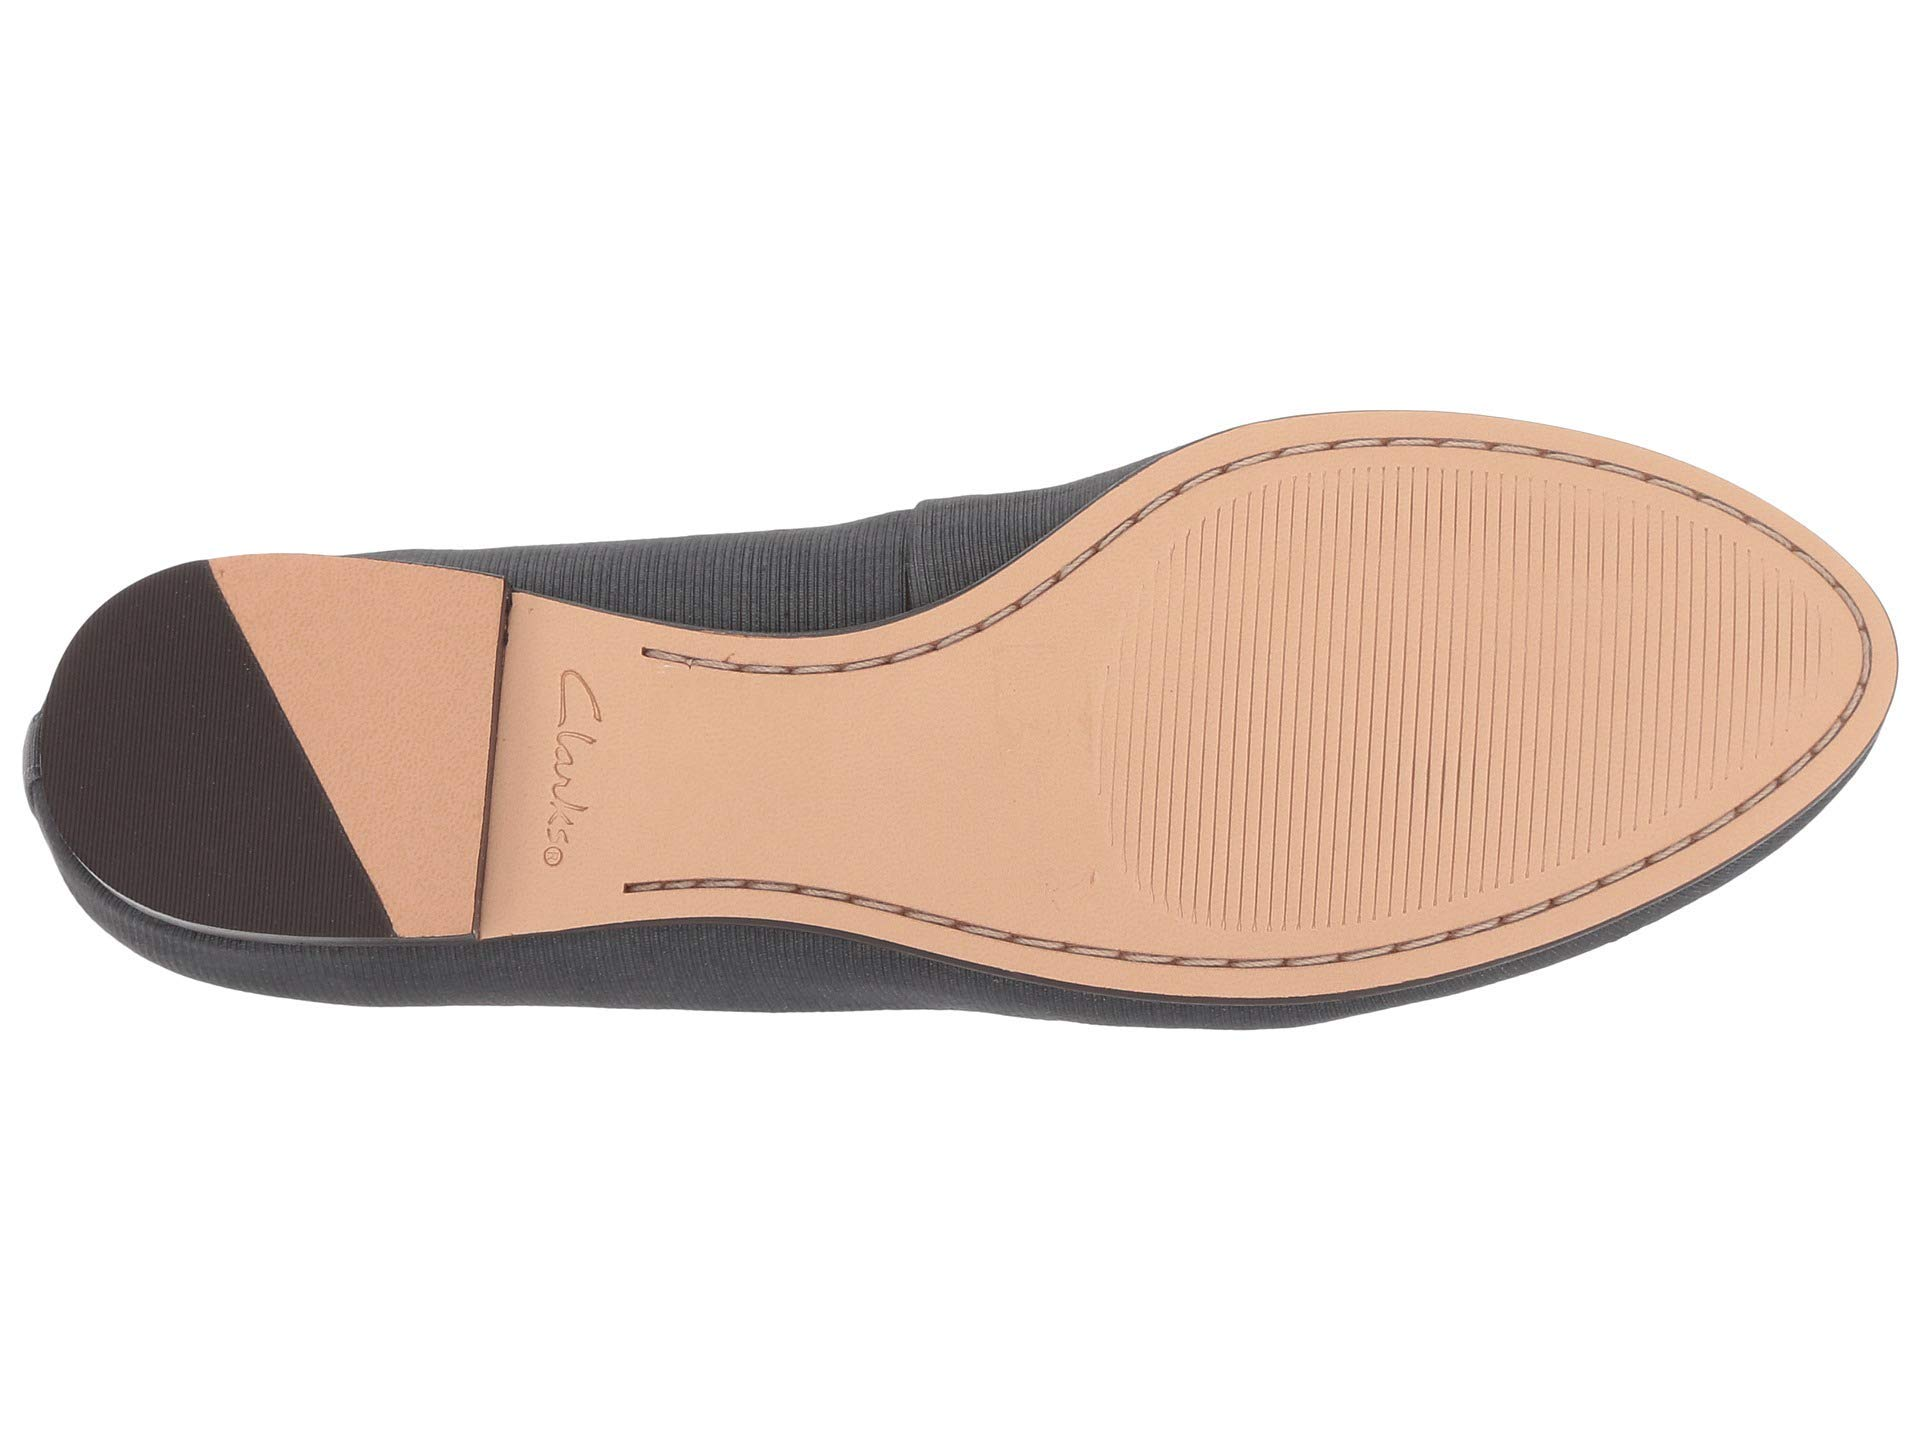line: (1219, 532, 1551, 874)
